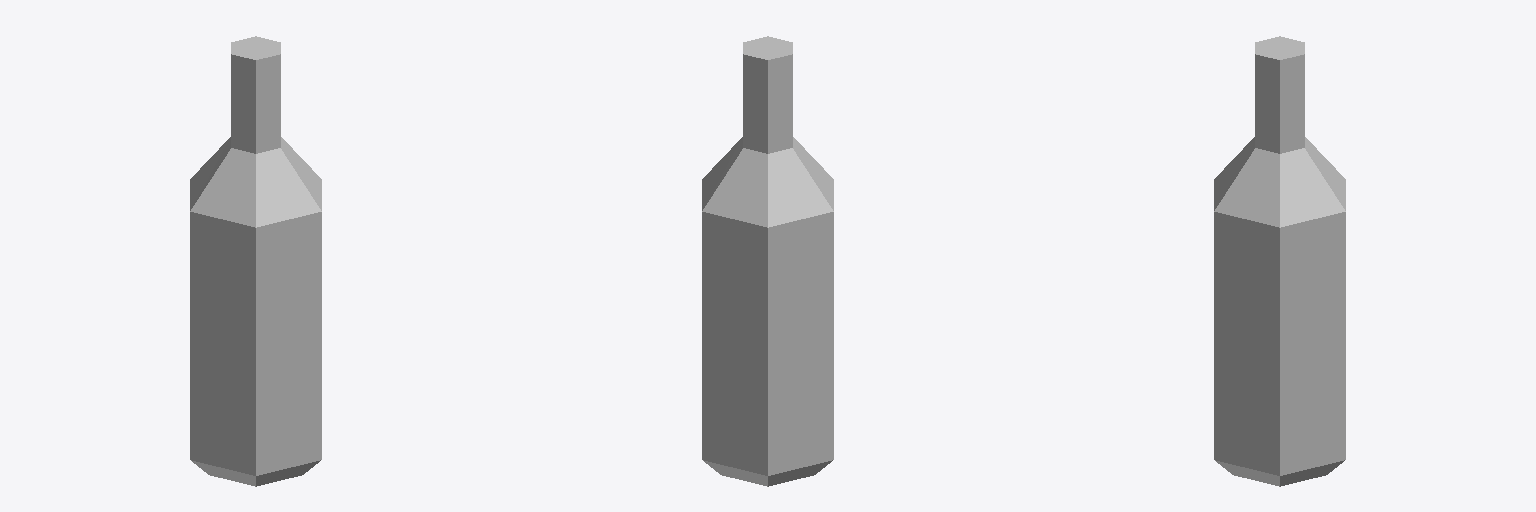
Rendered from WineBottle.obj.
3 renders of one model, left to right at view 1: azimuth 30°, elevation 25°; view 2: azimuth 150°, elevation 25°; view 3: azimuth 270°, elevation 25°, orthographic.
Visible parts, largest first — view 1: WineBottle; view 2: WineBottle; view 3: WineBottle.
Boxes of the visible parts, x1=… form: WineBottle: x1=190, y1=36, x2=321, y2=486; WineBottle: x1=702, y1=36, x2=833, y2=486; WineBottle: x1=1214, y1=36, x2=1345, y2=486.
Size of the model in its own units: 0.1779 by 0.5356 by 0.1541.